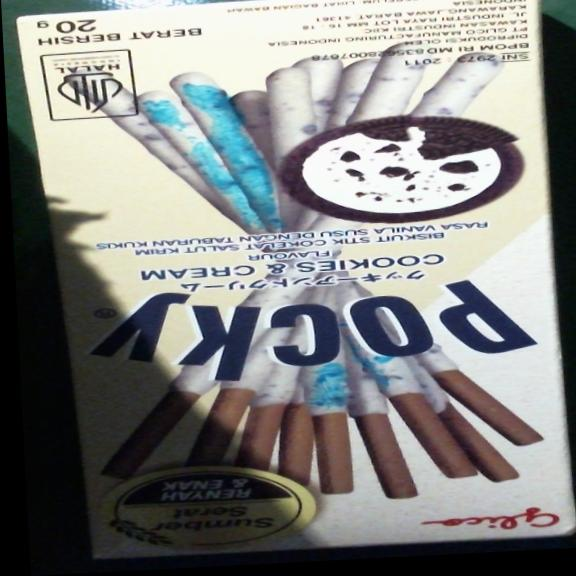Kertas: (15, 0, 574, 567)
